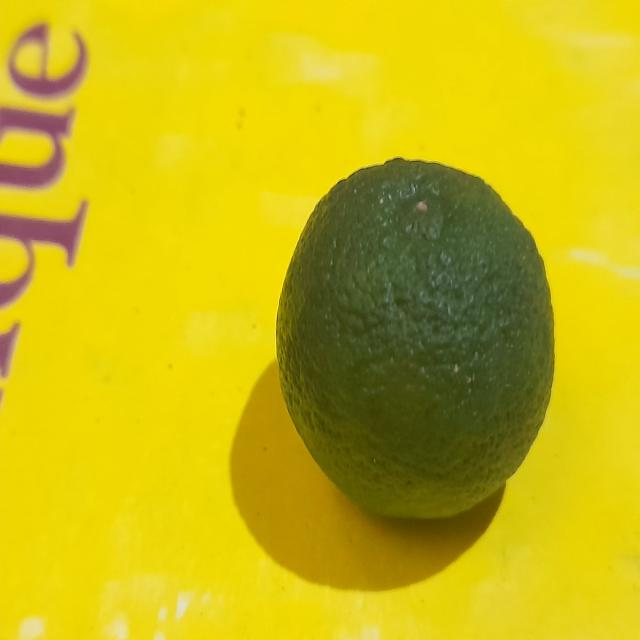heathy: (277, 156, 555, 518)
